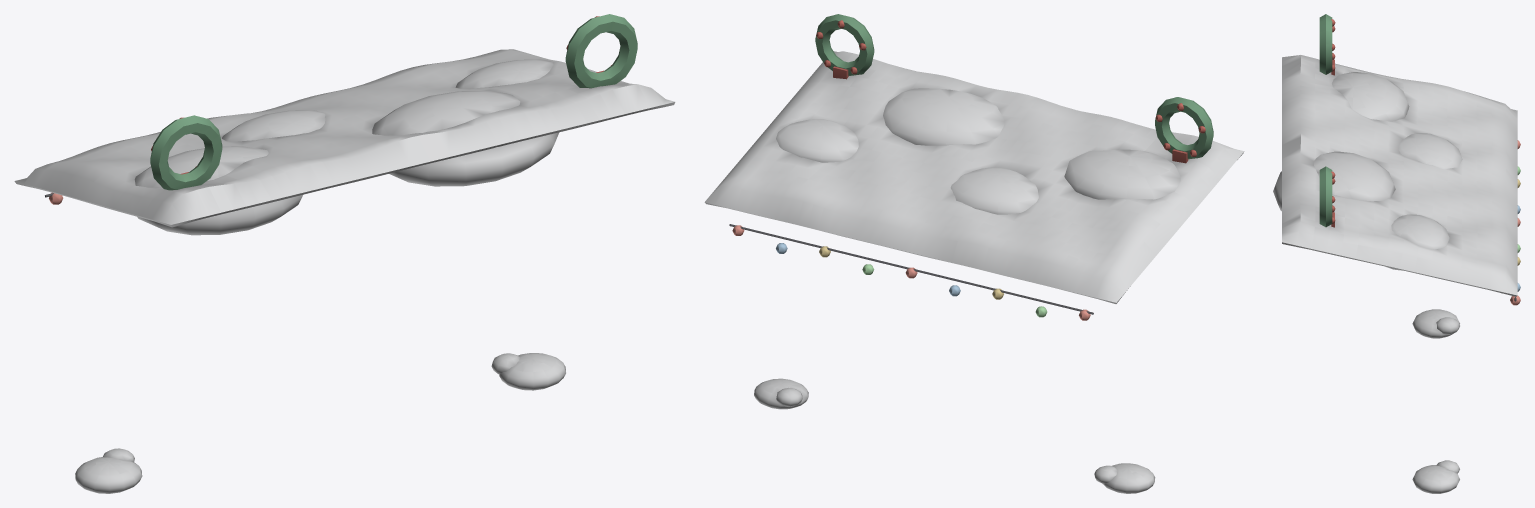
Rendered from xmas_stall_dress.glb.
3 renders of one model, left to right at view 1: azimuth 30°, elevation 25°; view 2: azimuth 150°, elevation 25°; view 3: azimuth 270°, elevation 25°, orthographic. The views are drawn at different scales.
Size of the model in its own units: 2.38 by 1.91 by 1.35.
